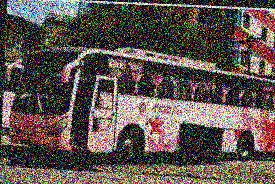bus: (6, 40, 275, 170)
